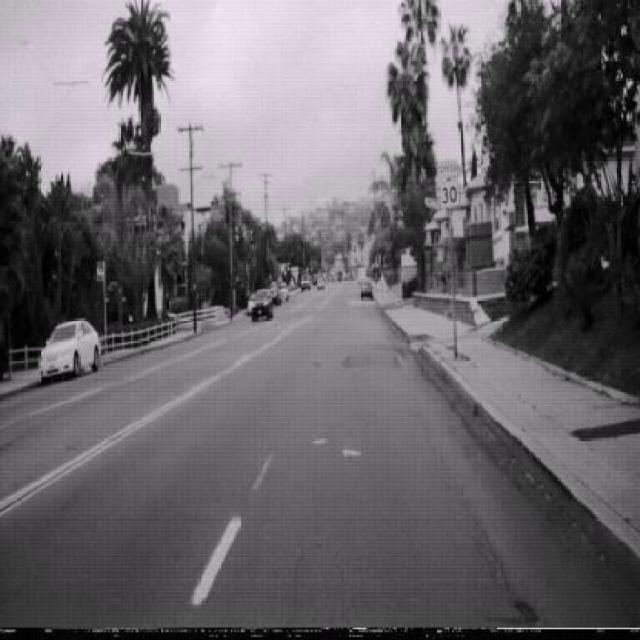speedLimit30: (437, 156, 460, 210)
